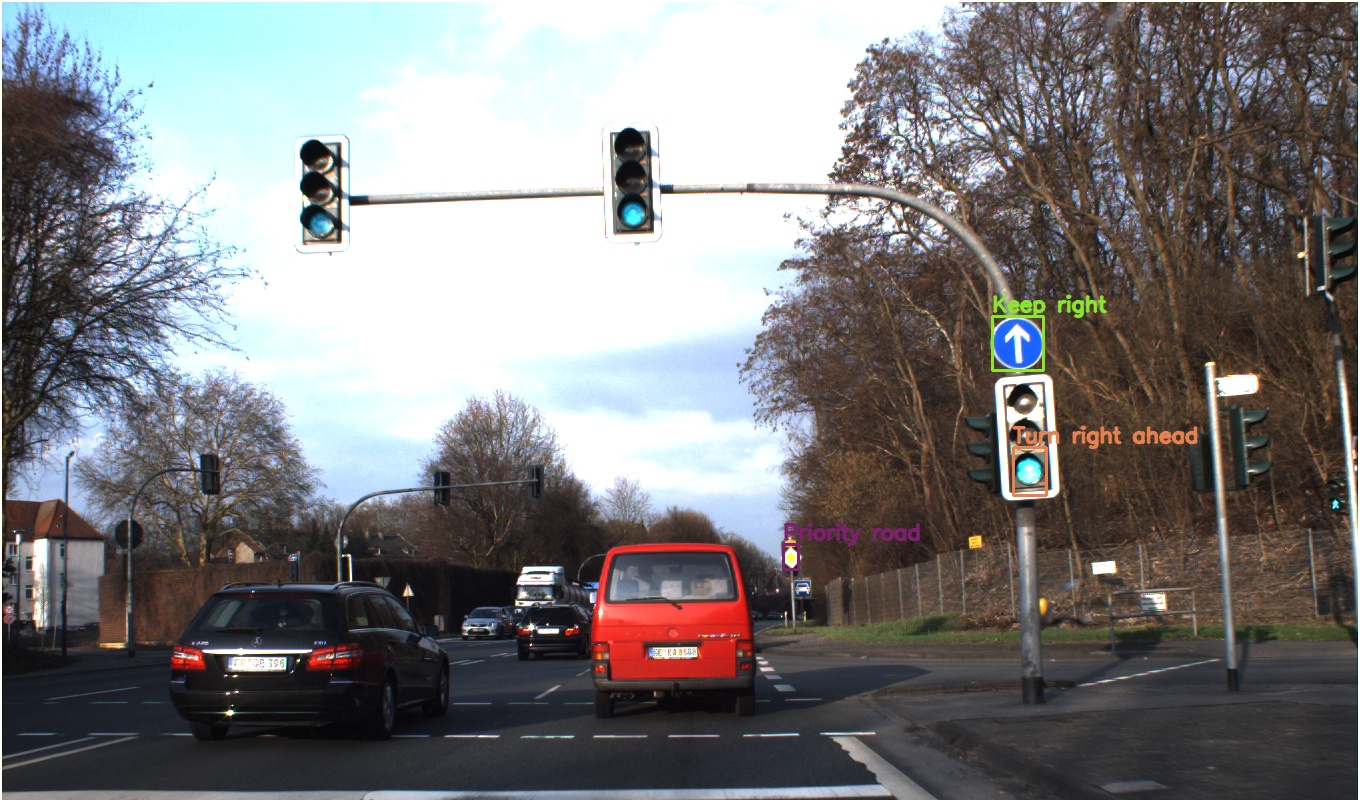Speed limit (80km/h): (983, 438, 1006, 462), (413, 456, 436, 479)
